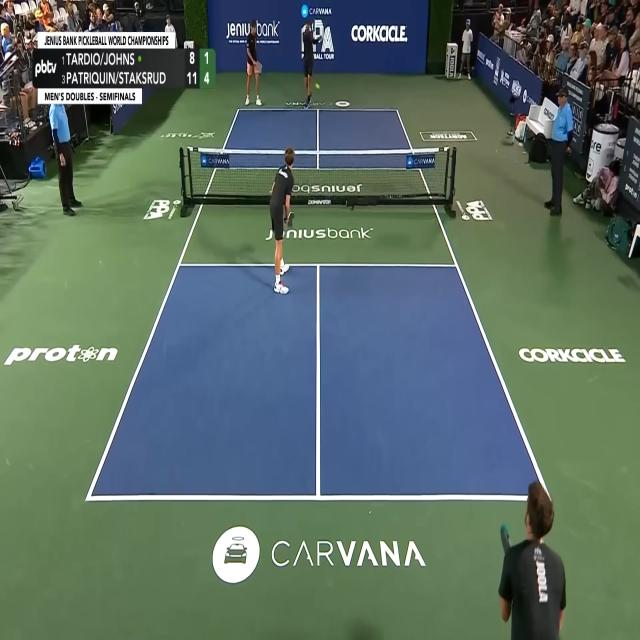ball: (314, 82, 320, 90)
